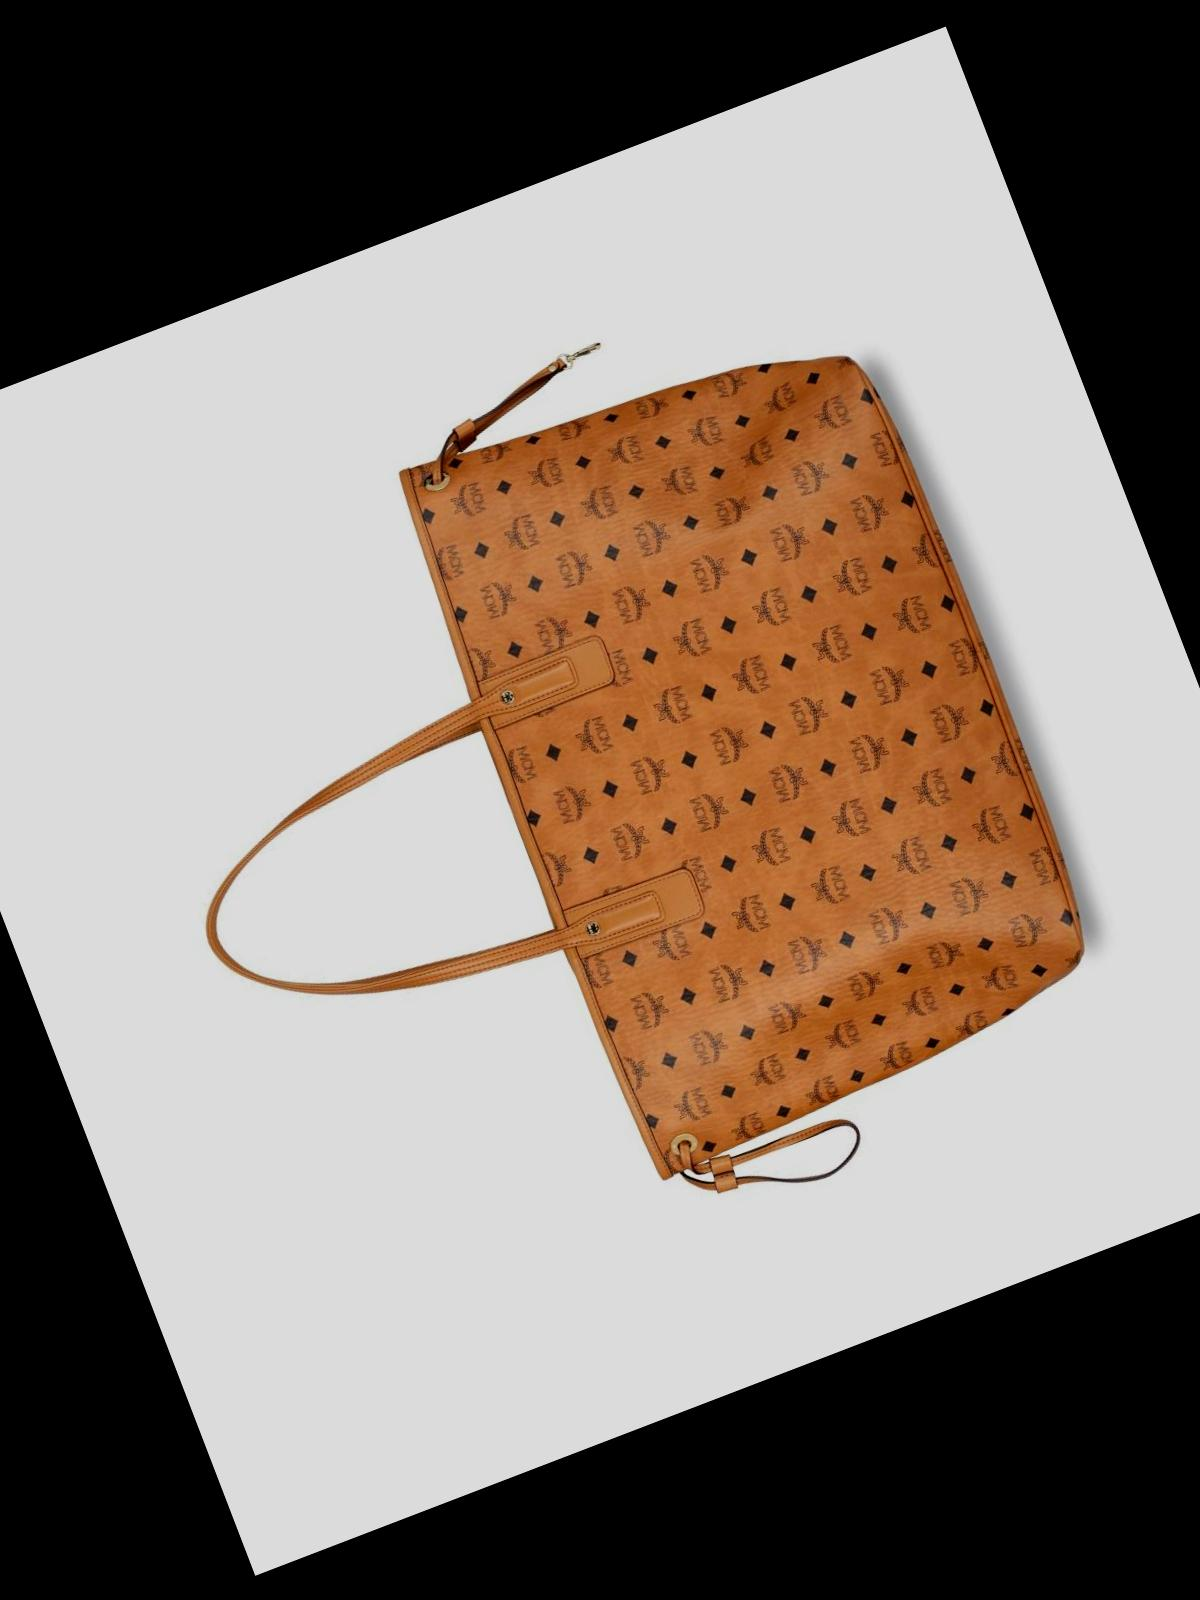MCM: (321, 223, 1180, 1232)
